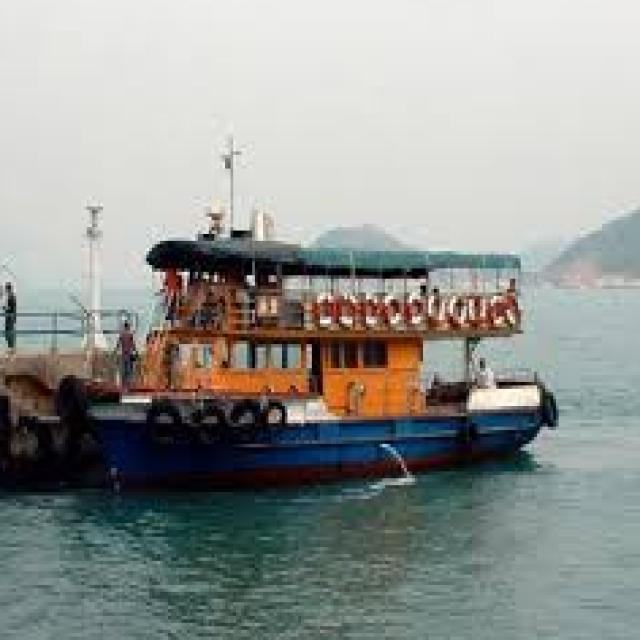passenger ship: (78, 199, 545, 507)
